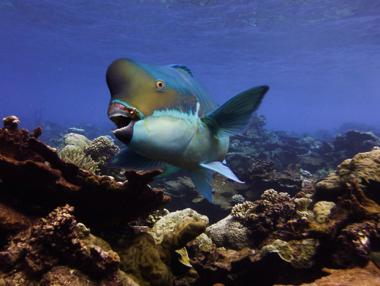Scaridae -Parrotfishes-: (100, 53, 272, 206)
